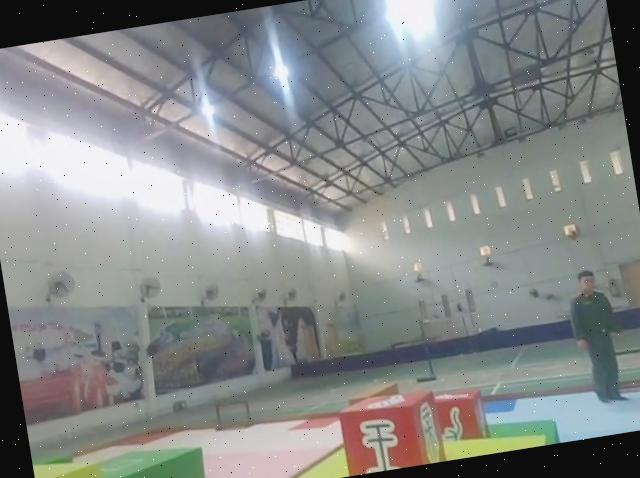R2 Fake: (335, 382, 447, 477)
R2 Real: (427, 382, 492, 449)
